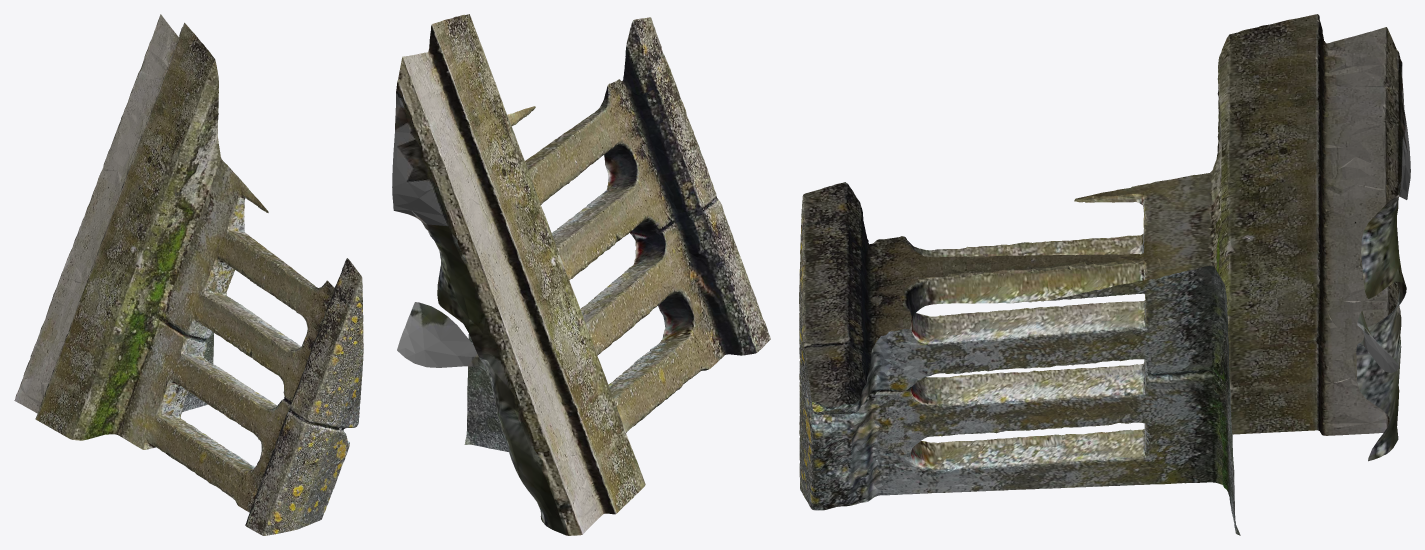
The model's file is Tile_+003_+006.fbx.
The picture shows the model from 3 angles, left to right: view 1: azimuth 30°, elevation 25°; view 2: azimuth 150°, elevation 25°; view 3: azimuth 270°, elevation 25°; orthographic projection. The views are drawn at different scales.
Parts seen in each view (by area): view 1: Tile_+003_+006_LOD0; view 2: Tile_+003_+006_LOD0; view 3: Tile_+003_+006_LOD0.
Part boxes in pixels (bbox=[...]): Tile_+003_+006_LOD0: bbox=[14, 14, 363, 535]; Tile_+003_+006_LOD0: bbox=[392, 14, 770, 535]; Tile_+003_+006_LOD0: bbox=[799, 14, 1410, 535].
Size of what is drawn, in the model's own units: 58.11 by 134 by 142.
